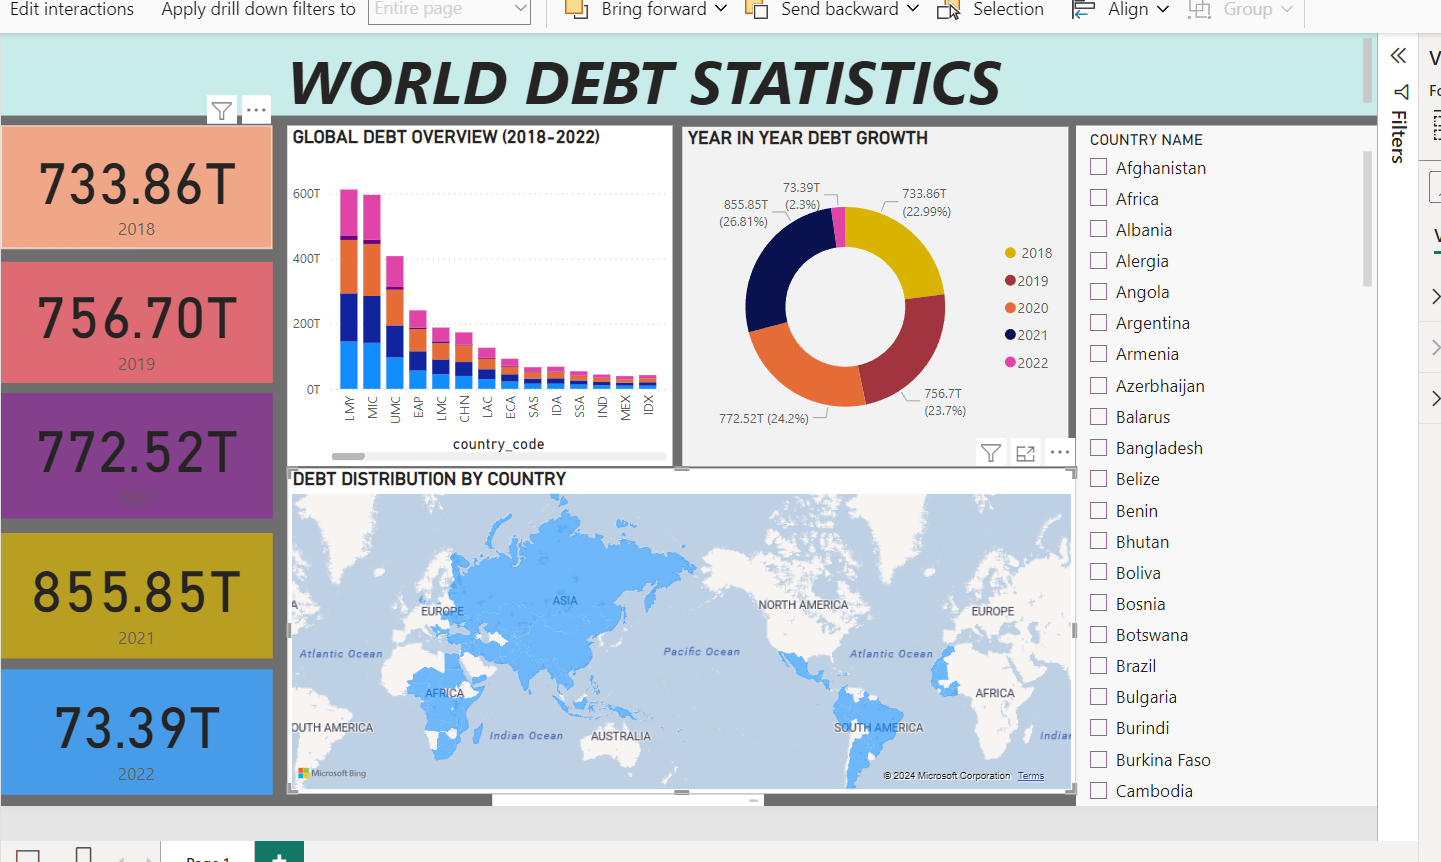

What the dashboard file says about the page in this screenshot:
{"tool":"powerbi","page":{"name":"Page 1","canvas":[1280,720],"ordinal":0},"visuals":[{"type":"slicer","fields":{"Values":["Custom__2.country_name"]},"box":[1000.3,86.4,279.9,634],"z":0},{"type":"textbox","box":[0,0,1280.3,76.8],"z":1000},{"type":"columnChart","title":"GLOBAL DEBT OVERVIEW (2018-2022)","fields":{"Category":["Custom__2.country_code"],"Y":["Sum(Custom__2.2019)","Sum(Custom__2.2020)","Sum(Custom__2.2021)","Sum(Custom__2.2022)","Sum(Custom__2.2018)"]},"box":[266.2,86.4,358.1,317],"z":2000},{"type":"donutChart","title":"YEAR IN YEAR DEBT GROWTH","fields":{"Y":["Sum(Custom__2.2018)","Sum(Custom__2.2019)","Sum(Custom__2.2020)","Sum(Custom__2.2021)","Sum(Custom__2.2022)"]},"box":[647.7,87.8,352.7,317],"z":3000},{"type":"textbox","box":[456.9,708.1,252.5,12.3],"z":4000},{"type":"card","fields":{"Values":["Sum(Custom__2.2018)"]},"box":[0,86.4,252.5,115.3],"z":5000},{"type":"card","fields":{"Values":["Sum(Custom__2.2019)"]},"box":[0,212.7,252.5,112.5],"z":6000},{"type":"card","fields":{"Values":["Sum(Custom__2.2020)"]},"box":[0,334.8,252.5,116.6],"z":7000},{"type":"card","fields":{"Values":["Sum(Custom__2.2021)"]},"box":[0,465.2,252.5,116.6],"z":8000},{"type":"card","fields":{"Values":["Sum(Custom__2.2022)"]},"box":[0,591.4,252.5,116.6],"z":9000},{"type":"filledMap","title":"DEBT DISTRIBUTION BY COUNTRY","fields":{"Category":["Custom__2.country_name"]},"box":[266.2,404.8,734.1,303.3],"z":10000}]}

Visuals, with their boxes in screenshot pixels (x1, y1, x2, y2):
slicer - Custom__2.country_name: (x1=1071, y1=123, x2=1371, y2=801)
textbox: (x1=0, y1=30, x2=1371, y2=112)
"GLOBAL DEBT OVERVIEW (2018-2022)" columnChart: (x1=285, y1=123, x2=669, y2=462)
"YEAR IN YEAR DEBT GROWTH" donutChart: (x1=694, y1=124, x2=1071, y2=464)
textbox: (x1=489, y1=788, x2=760, y2=801)
card - Sum(Custom__2.2018): (x1=0, y1=123, x2=270, y2=246)
card - Sum(Custom__2.2019): (x1=0, y1=258, x2=270, y2=378)
card - Sum(Custom__2.2020): (x1=0, y1=389, x2=270, y2=513)
card - Sum(Custom__2.2021): (x1=0, y1=528, x2=270, y2=653)
card - Sum(Custom__2.2022): (x1=0, y1=663, x2=270, y2=788)
"DEBT DISTRIBUTION BY COUNTRY" filledMap: (x1=285, y1=464, x2=1071, y2=788)
